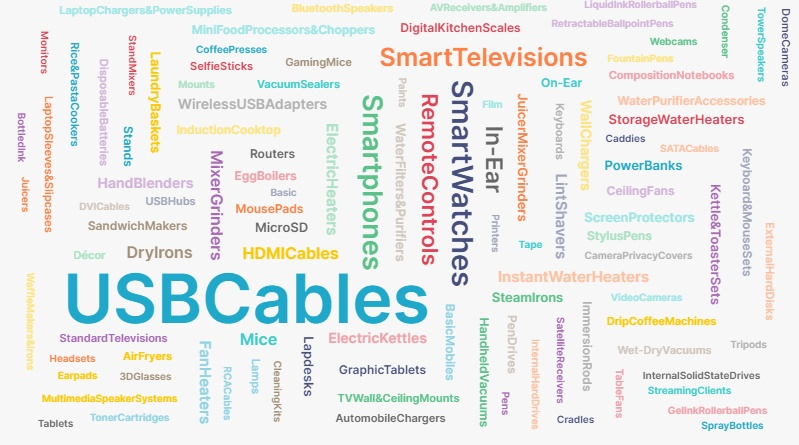

This screenshot's page, from the dashboard's own definition file:
{"tool":"powerbi","page":{"name":"Страница 1","canvas":[1280,720],"ordinal":0},"visuals":[{"type":"textbox","box":[9.6,0,585.4,640.3],"z":0},{"type":"decompositionTreeVisual","fields":{"ExplainBy":["clear_data.category_main","clear_data.category_sub","clear_data.type_product","clear_data.product_name","clear_data.rating"],"Analyze":["Sum(clear_data.rating_count)"]},"box":[11,69.9,1169.5,610.1],"z":1000},{"type":"textbox","box":[11,13.7,436,39.8],"z":2000}]}

Visuals, with their boxes in screenshot pixels (x1, y1, x2, y2), scaled from the page's 1280x720 canvas onto the 799x445 screenshot:
textbox: box=[6, 0, 371, 396]
decompositionTreeVisual - clear_data.category_main x clear_data.category_sub: box=[7, 43, 737, 420]
textbox: box=[7, 8, 279, 33]
